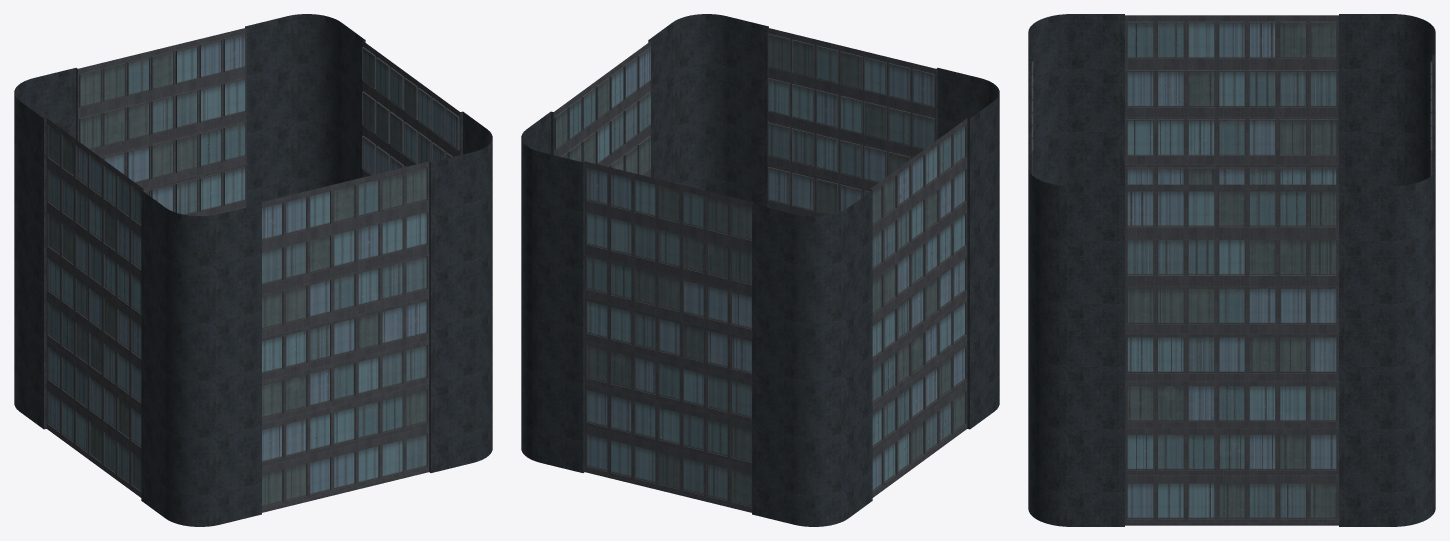
File: jctBld24_E_mdl.fbx
3 renders of one model, left to right at view 1: azimuth 30°, elevation 25°; view 2: azimuth 150°, elevation 25°; view 3: azimuth 270°, elevation 25°, orthographic. The views are drawn at different scales.
Visible parts, largest first — view 1: jctBld24_E_mdl_LOD0; view 2: jctBld24_E_mdl_LOD0; view 3: jctBld24_E_mdl_LOD0.
Boxes of the visible parts, <box> form: jctBld24_E_mdl_LOD0: <box>14,14,492,526</box>; jctBld24_E_mdl_LOD0: <box>521,14,999,526</box>; jctBld24_E_mdl_LOD0: <box>1028,14,1435,526</box>.
Bounding box in the file's own units: 2350 × 2170 × 2350.
